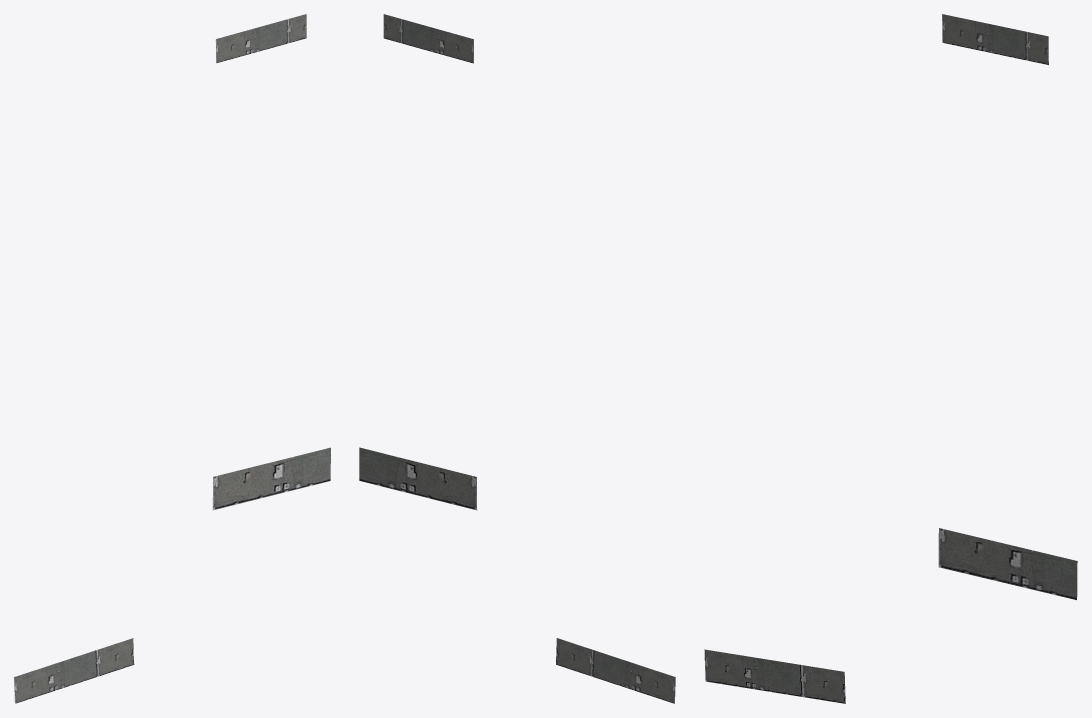
File: tile_roof_148.glb
3 renders of one model, left to right at view 1: azimuth 30°, elevation 25°; view 2: azimuth 150°, elevation 25°; view 3: azimuth 330°, elevation 25°, orthographic. The views are drawn at different scales.
Bounding box in the file's own units: 104 × 194 × 0.0735.
1 material, 1 textured.
